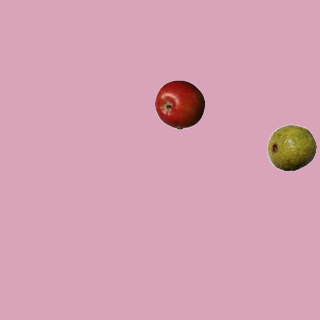Apple Braeburn: (154, 79, 204, 129)
Guava: (266, 122, 316, 172)
